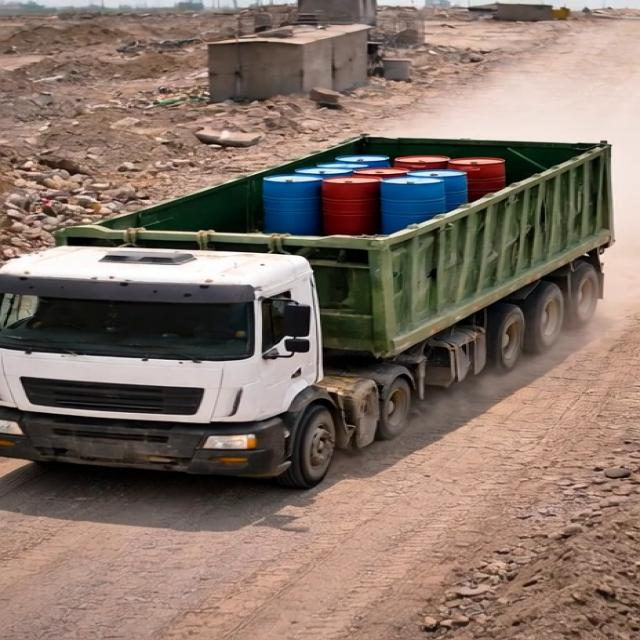Box: (65, 139, 614, 246)
Truck: (5, 114, 626, 485)
